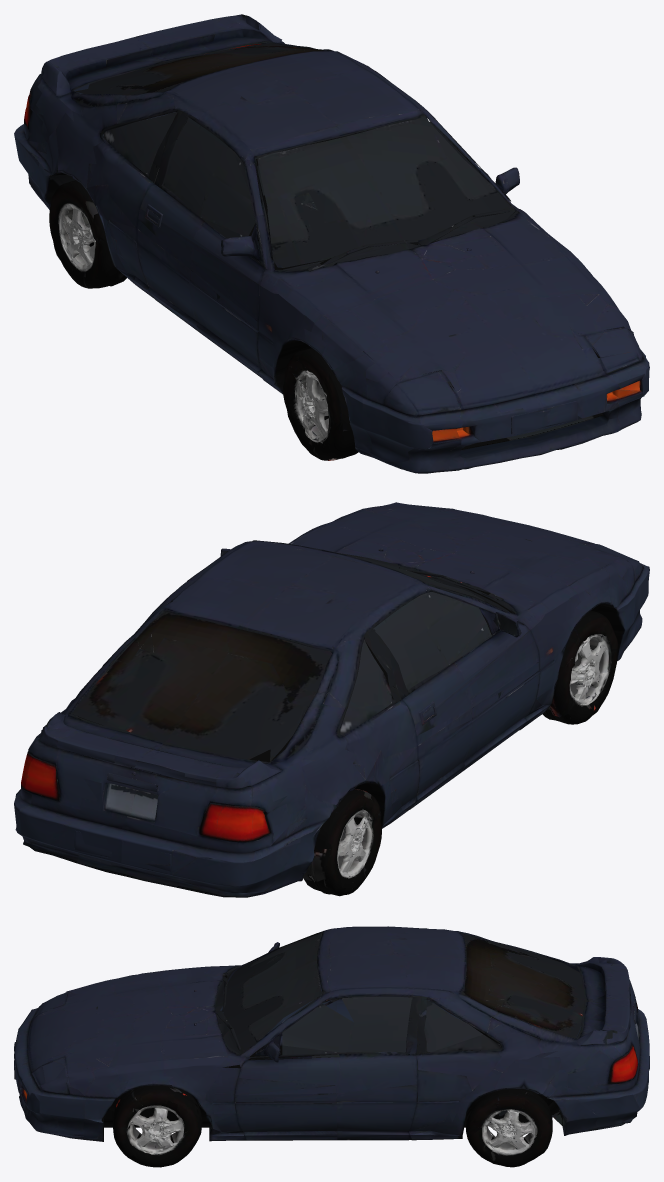
The model's file is muscle-coupe-v5.glb.
3 views of the same model, one above another, from view 1: azimuth 30°, elevation 25°; view 2: azimuth 150°, elevation 25°; view 3: azimuth 270°, elevation 25° (orthographic). The views are drawn at different scales.
Visible parts, largest first — view 1: body, wheel_fl_mesh, wheel_rl_mesh; view 2: body, wheel_rl_mesh, wheel_fl_mesh; view 3: body, wheel_fr_mesh, wheel_rr_mesh.
Boxes of the visible parts, <box> form: body: <box>14,14,649,473</box>; wheel_fl_mesh: <box>283,347,358,460</box>; wheel_rl_mesh: <box>49,180,126,288</box>; body: <box>14,502,649,897</box>; wheel_rl_mesh: <box>303,789,381,896</box>; wheel_fl_mesh: <box>542,610,618,724</box>; body: <box>14,926,649,1141</box>; wheel_fr_mesh: <box>113,1085,202,1167</box>; wheel_rr_mesh: <box>466,1089,552,1167</box>.
Size of the model in its own units: 1.95 by 1.36 by 4.8.
1 material, 1 textured.
